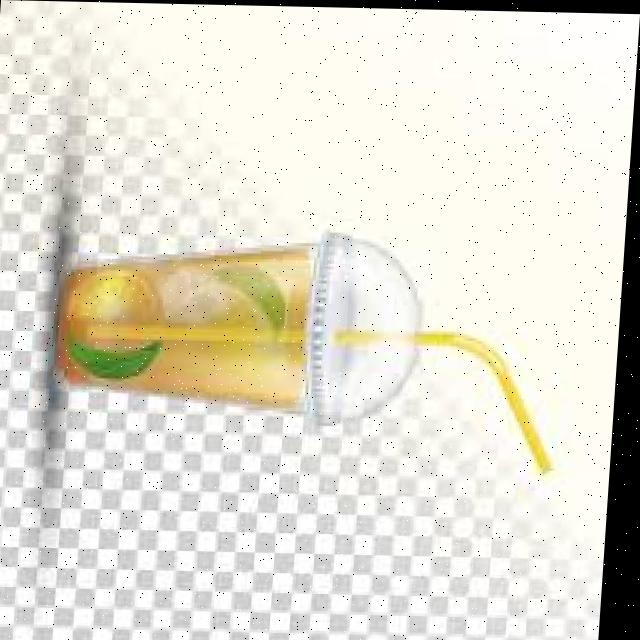cup: (60, 236, 345, 421)
